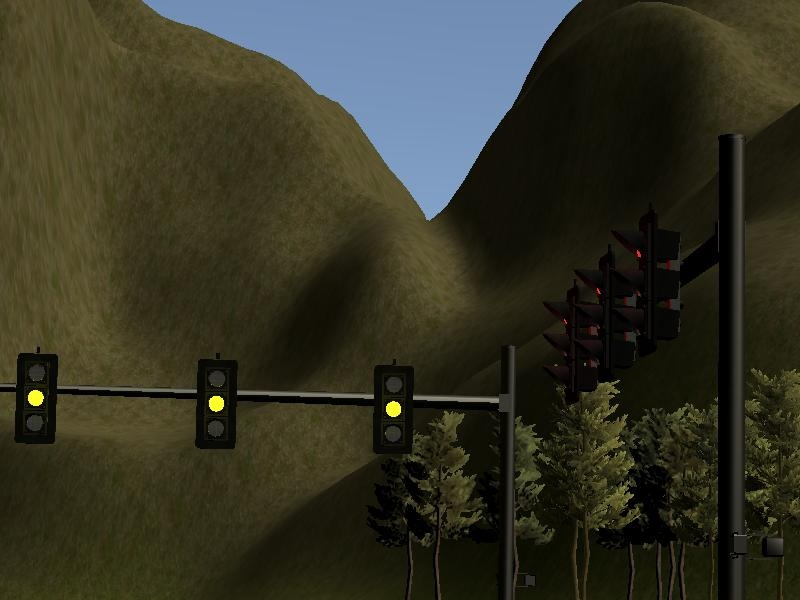YELLOW: (371, 362, 417, 457), (192, 357, 238, 452), (11, 352, 57, 447)
